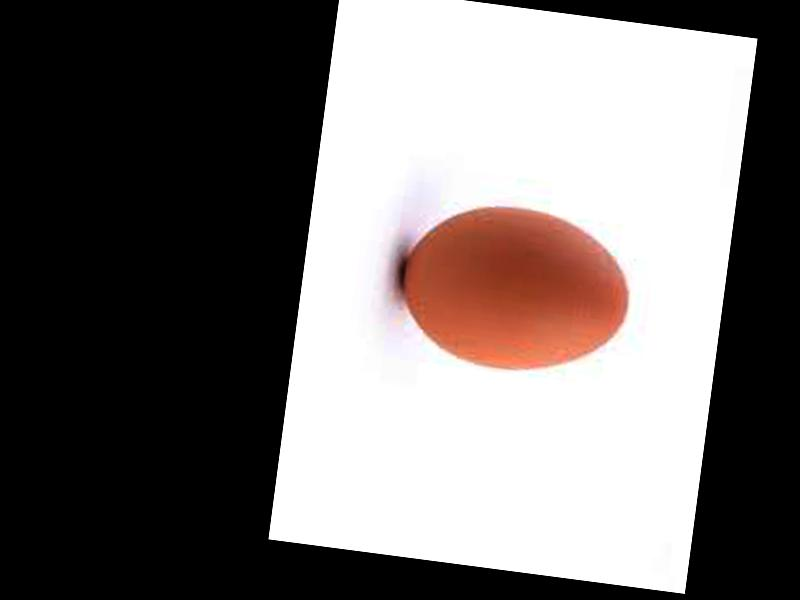Eggs: (394, 192, 640, 381)
